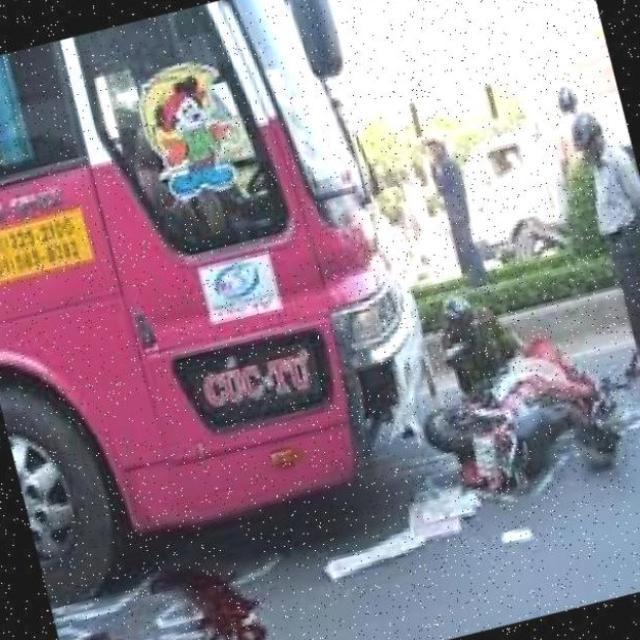accident: (298, 185, 640, 583)
